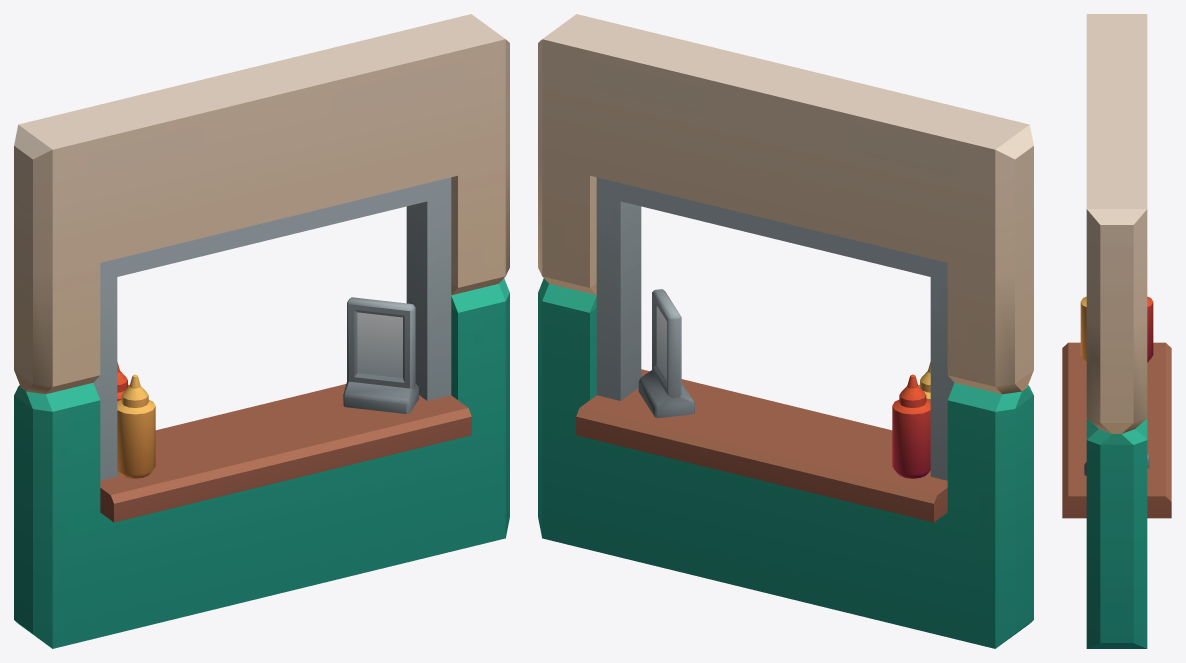
File: wall-orderwindow-decorated.glb
3 renders of one model, left to right at view 1: azimuth 30°, elevation 25°; view 2: azimuth 150°, elevation 25°; view 3: azimuth 270°, elevation 25°, orthographic. The views are drawn at different scales.
Visible parts, largest first — view 1: wall_orderwindow_decorated; view 2: wall_orderwindow_decorated; view 3: wall_orderwindow_decorated.
Part boxes in pixels (x1,y1,x2,y2): wall_orderwindow_decorated: (14, 14, 509, 648); wall_orderwindow_decorated: (538, 14, 1033, 648); wall_orderwindow_decorated: (1062, 14, 1171, 648).
Size of the model in its own units: 4 by 4 by 0.8999.
1 material, 1 textured.
